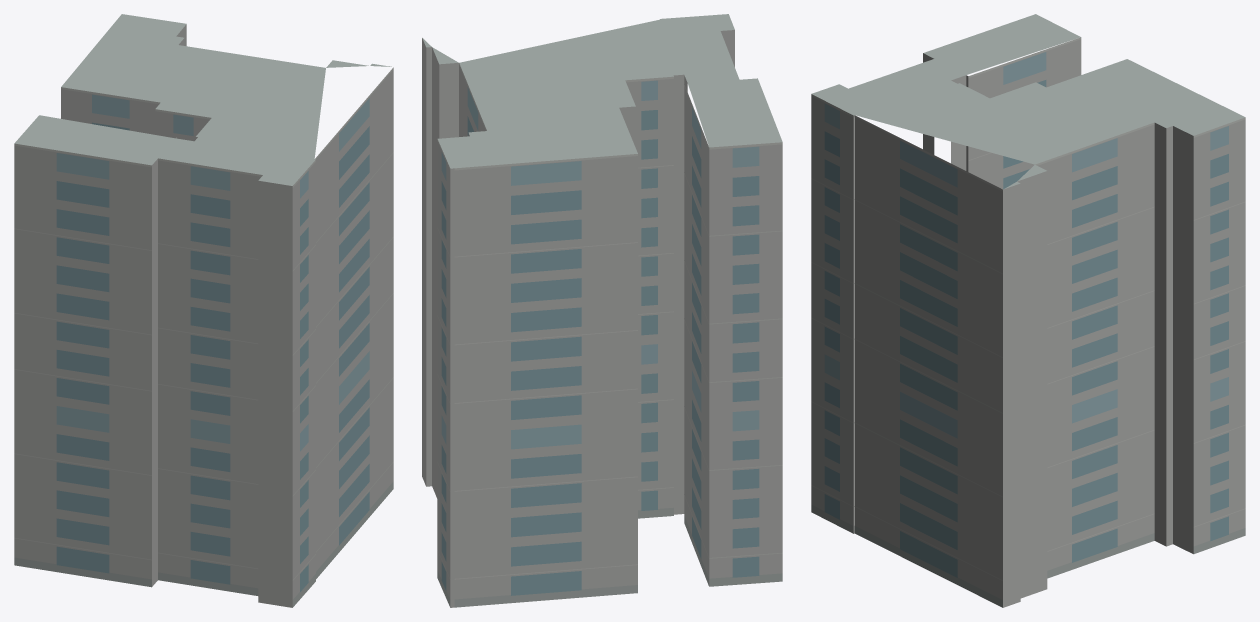
Rendered from survey-upis-32920275.glb.
3 renders of one model, left to right at view 1: azimuth 30°, elevation 25°; view 2: azimuth 150°, elevation 25°; view 3: azimuth 270°, elevation 25°, orthographic. The views are drawn at different scales.
Parts seen in each view (by area): view 1: survey-upis-32920275.tmp; view 2: survey-upis-32920275.tmp; view 3: survey-upis-32920275.tmp.
Boxes of the visible parts, left/top/right/bottom form: survey-upis-32920275.tmp: left=14, top=14, right=393, bottom=607; survey-upis-32920275.tmp: left=422, top=14, right=782, bottom=607; survey-upis-32920275.tmp: left=811, top=14, right=1245, bottom=607.
Size of the model in its own units: 44.9 by 49.85 by 46.94.
